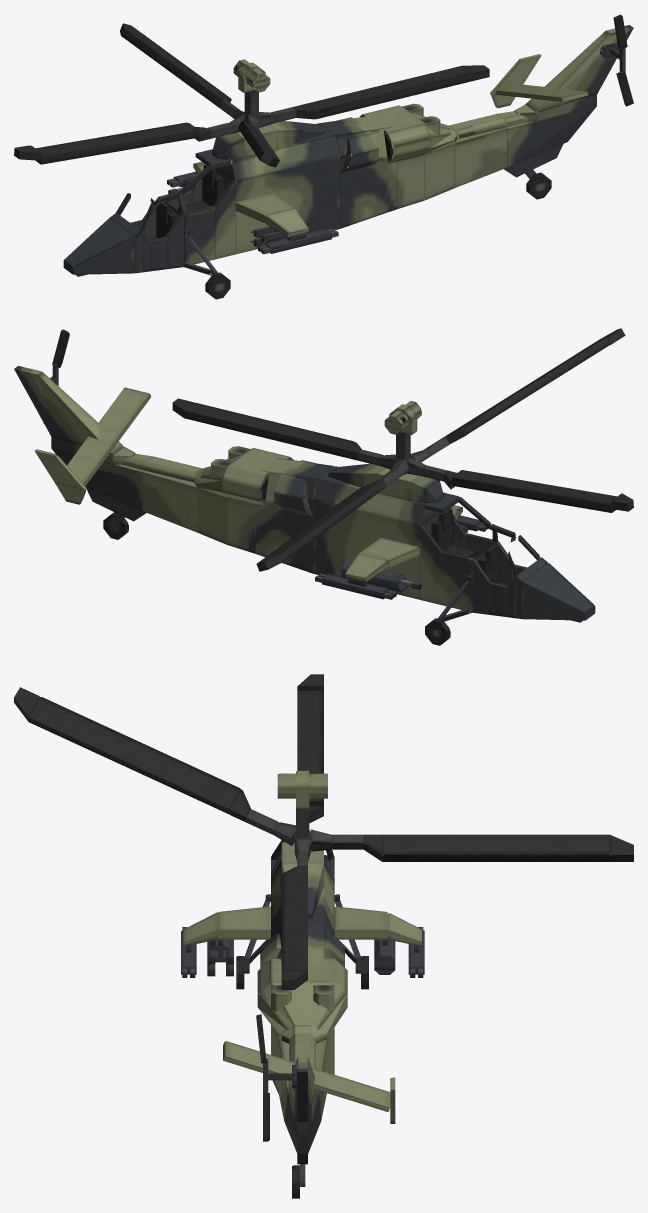
File: wreckagemilitary3.obj
3 views of the same model, one above another, from view 1: azimuth 30°, elevation 25°; view 2: azimuth 150°, elevation 25°; view 3: azimuth 270°, elevation 25° (orthographic). The views are drawn at different scales.
Parts seen in each view (by area): view 1: bodyModel28, bodyModel31, bodyModel78, bodyModel88, bodyModel0, tailModel5, tailModel1, bodyModel29, tailModel0, bodyModel83, bodyModel16, bodyModel30 (+23 smaller); view 2: bodyModel28, tailModel5, bodyModel78, bodyModel88, bodyModel0, tailModel6, bodyModel31, tailModel0, bodyModel29, tailModel1, bodyModel93, bodyModel83 (+21 smaller); view 3: bodyModel93, bodyModel83, tailModel6, bodyModel78, bodyModel88, bodyModel38, leftWingModel0, bodyModel29, rightWingModel0, bodyModel33, tailModel5, tailModel1 (+7 smaller).
Part boxes in pixels (box(x1,y1,x2,y2)): bodyModel28: box(214, 156, 339, 254); bodyModel31: box(340, 156, 396, 228); bodyModel78: box(305, 65, 473, 119); bodyModel88: box(35, 122, 198, 164); bodyModel0: box(63, 218, 134, 274); tailModel5: box(525, 25, 633, 112); tailModel1: box(505, 106, 596, 167); bodyModel29: box(217, 123, 339, 181); tailModel0: box(454, 128, 506, 188); bodyModel83: box(121, 28, 230, 102); bodyModel16: box(183, 206, 214, 264); bodyModel30: box(319, 115, 394, 158); bodyModel28: box(313, 499, 441, 599); tailModel5: box(14, 366, 124, 455); bodyModel78: box(184, 402, 354, 457); bodyModel88: box(451, 470, 617, 512); bodyModel0: box(523, 563, 595, 620); tailModel6: box(67, 387, 150, 486); bodyModel31: box(255, 499, 313, 573); tailModel0: box(143, 470, 197, 532); bodyModel29: box(313, 466, 438, 525); tailModel1: box(52, 448, 144, 510); bodyModel93: box(455, 337, 610, 434); bodyModel83: box(266, 485, 378, 560); bodyModel93: box(29, 697, 241, 814); bodyModel83: box(382, 834, 609, 861); tailModel6: box(223, 1041, 390, 1112); bodyModel78: box(281, 874, 307, 970); bodyModel88: box(297, 691, 323, 806); bodyModel38: box(258, 981, 347, 1029); leftWingModel0: box(334, 906, 387, 939); bodyModel29: box(271, 859, 334, 937); rightWingModel0: box(218, 906, 270, 939); bodyModel33: box(257, 958, 347, 992); tailModel5: box(288, 1057, 315, 1121); tailModel1: box(284, 1080, 321, 1154).
Bounding box in the file's own units: 332 × 114 × 234.
